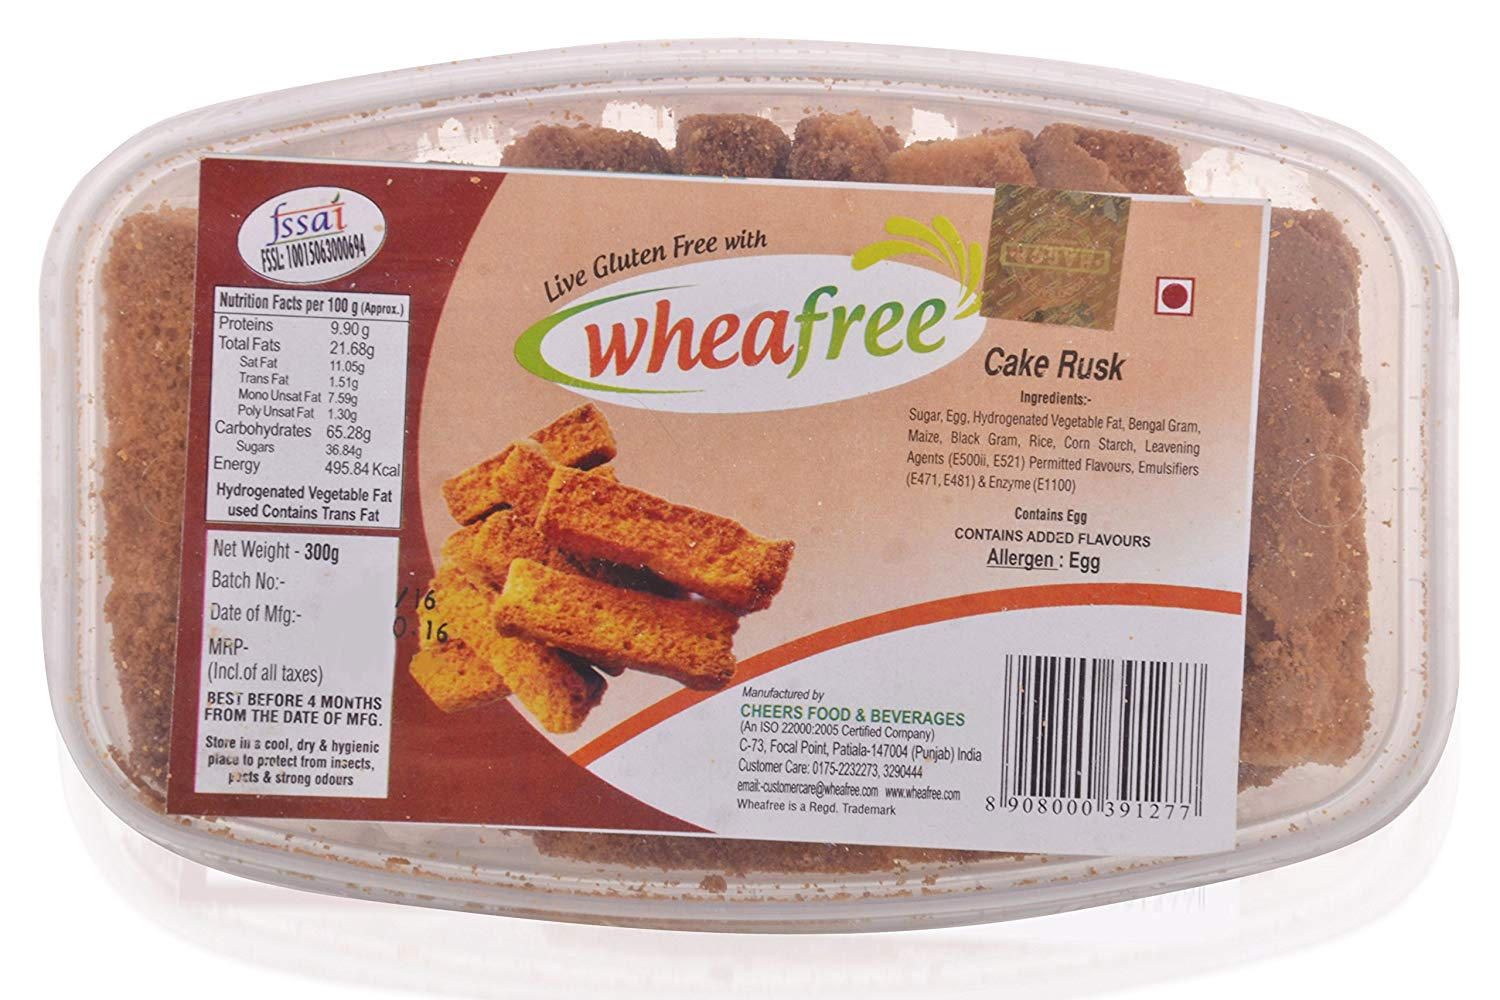nonveg_red: (1153, 272, 1200, 314)
